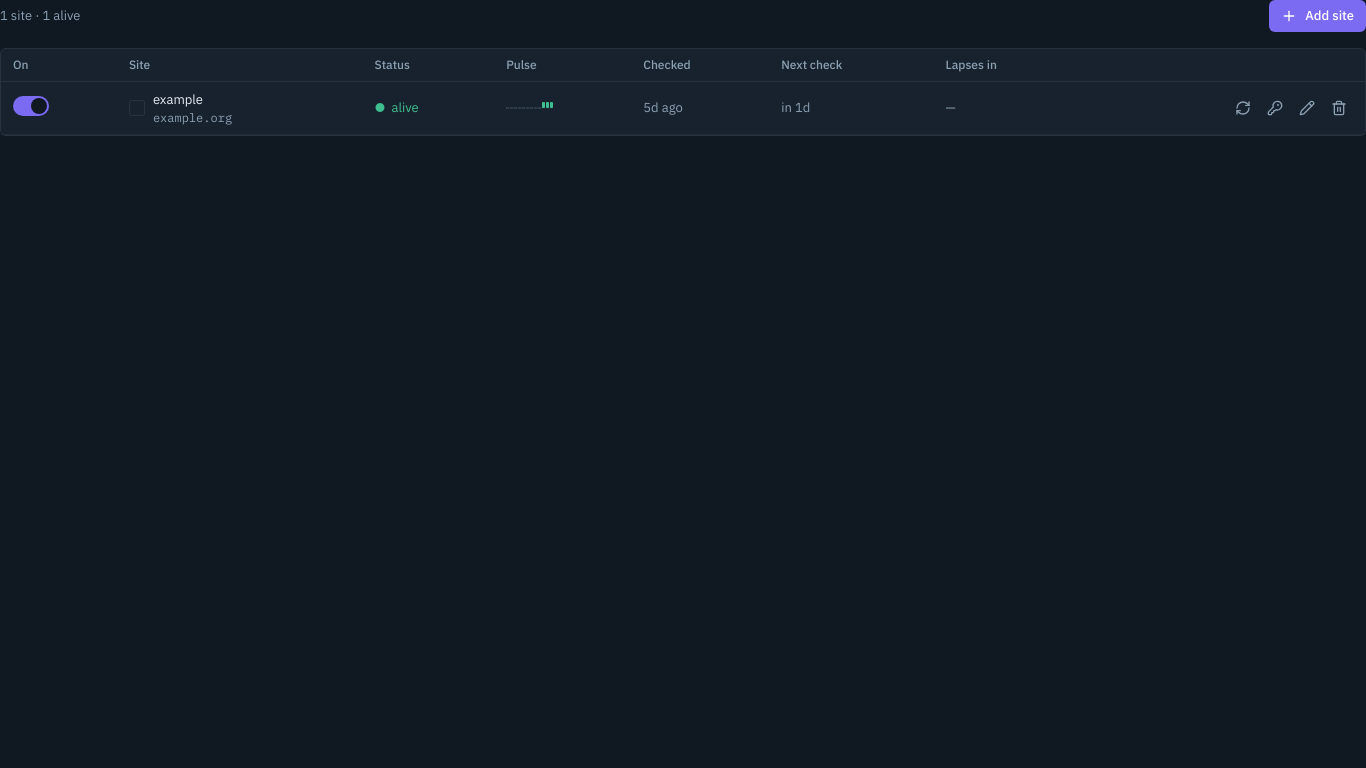
Scenario: editing a site › offers its settings as tabs rather than as a sequence
Expected: the text "example" is shown, [153,91,203,108]
Click the button named "Edit example" at (1307, 108), box [1293,94,1321,122]
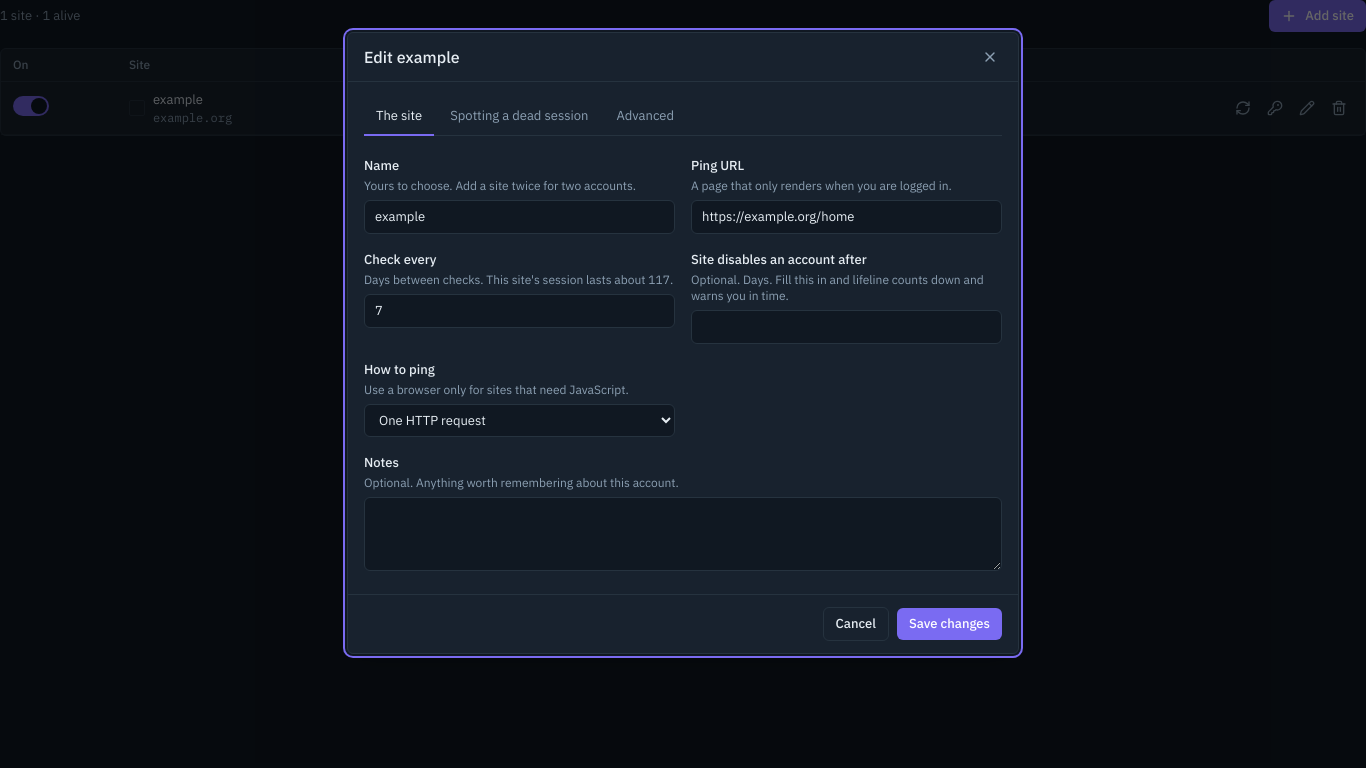
Expected: the number of tabs is 3, [364,98,434,136]; [438,98,600,136]; [604,98,686,136]
